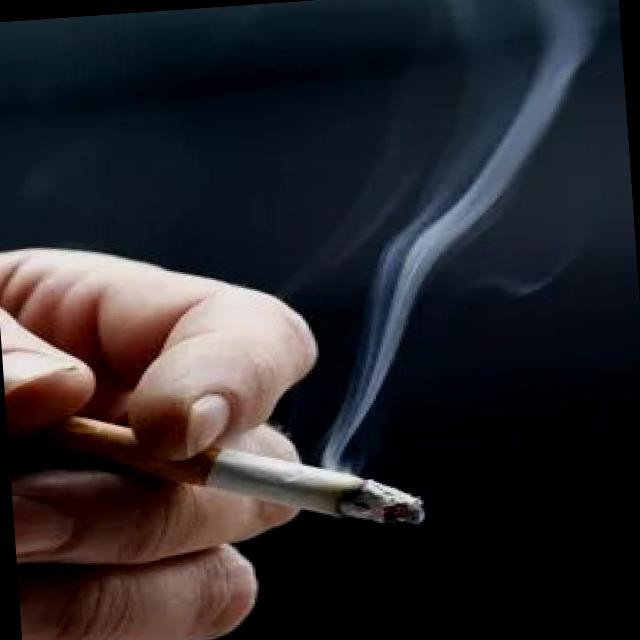smoke: (33, 381, 434, 560)
